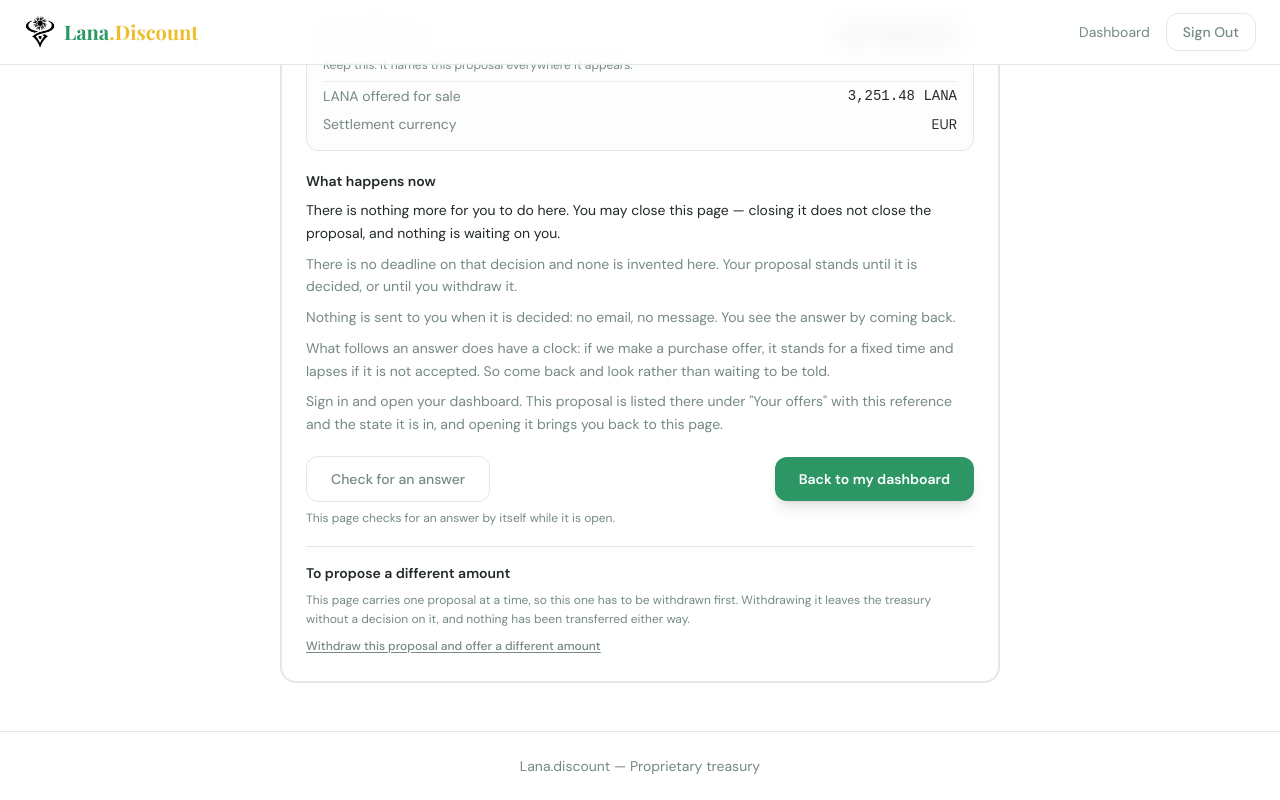
Test case: withdrawing is no longer what a hopeful thumb lands on › lets him back out of it
(page scrolled)
Step 1. Click the button "Withdraw this proposal and offer a different amount" → [453, 646], box [306, 638, 601, 654]
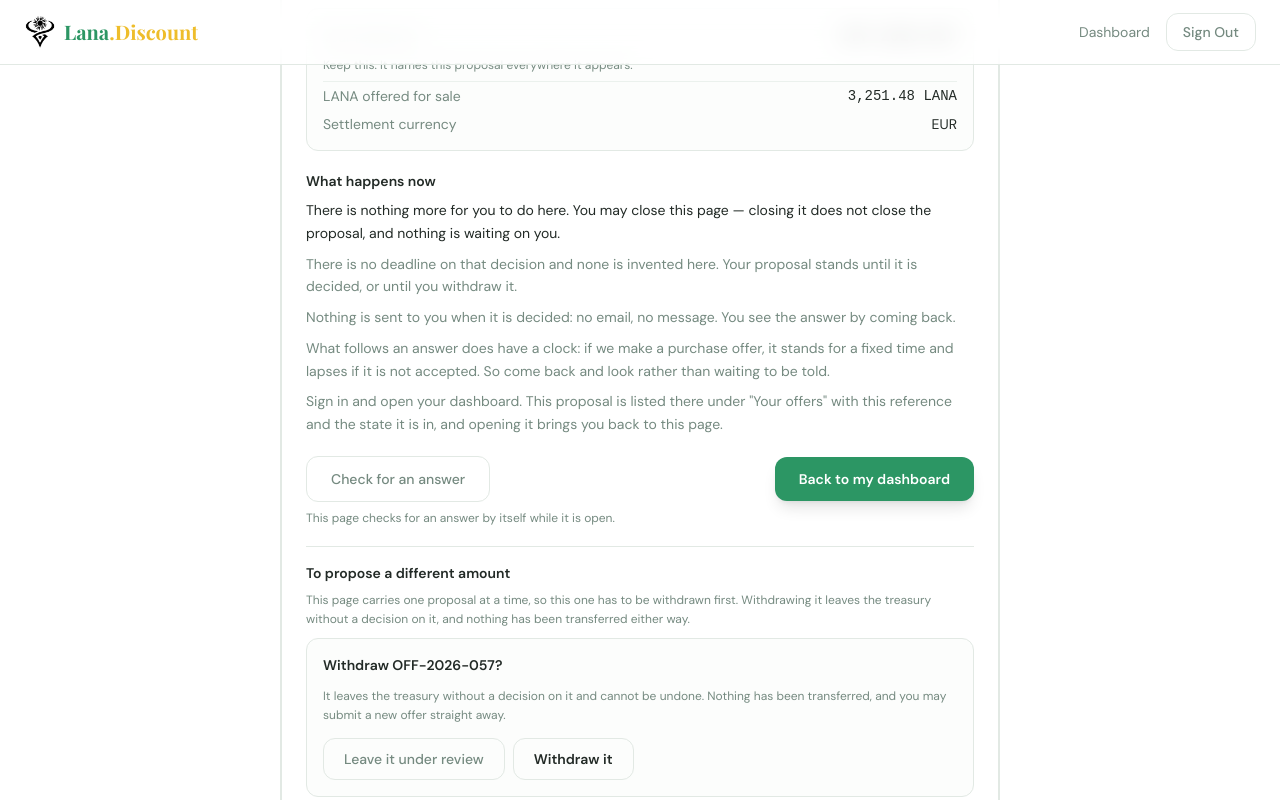
Step 2. Click the button "Leave it under review" → [414, 759], box [323, 738, 505, 780]
(page scrolled)
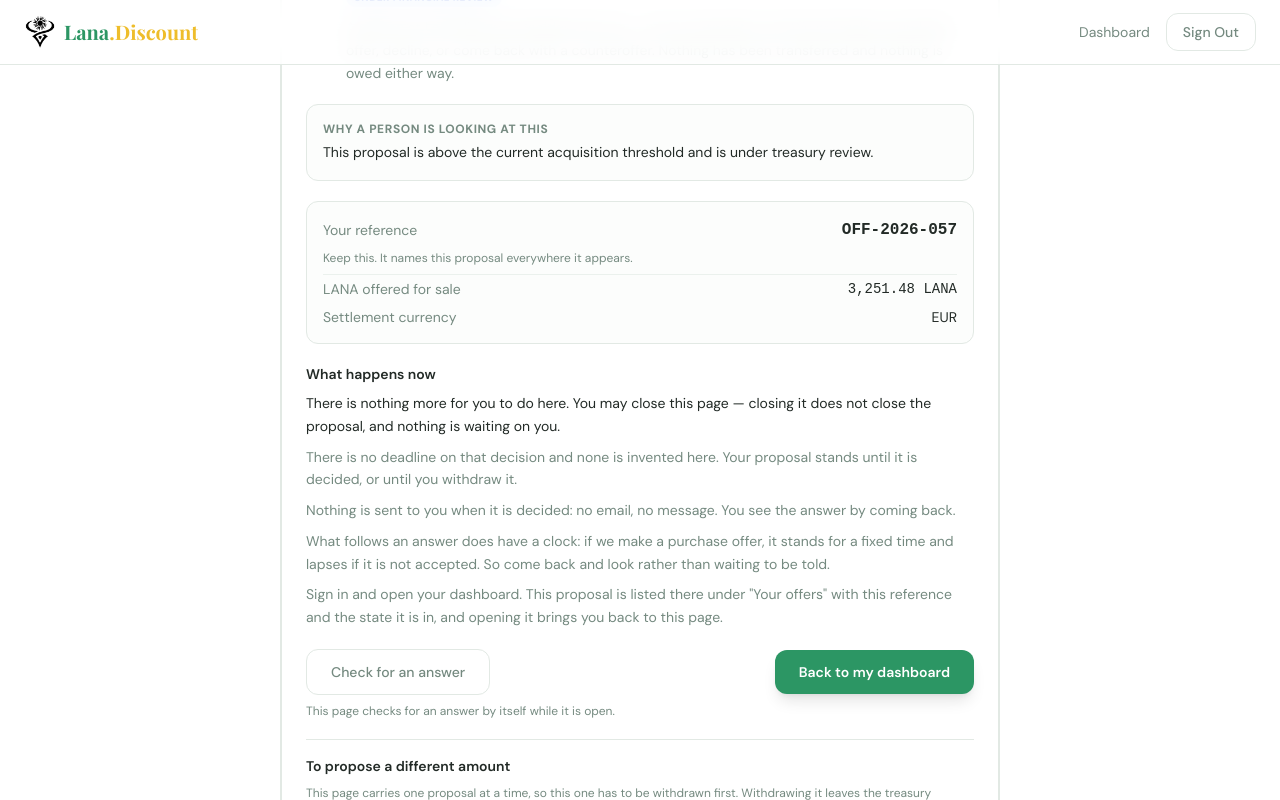
Expected: the element with test id "withdraw-confirm" is gone
